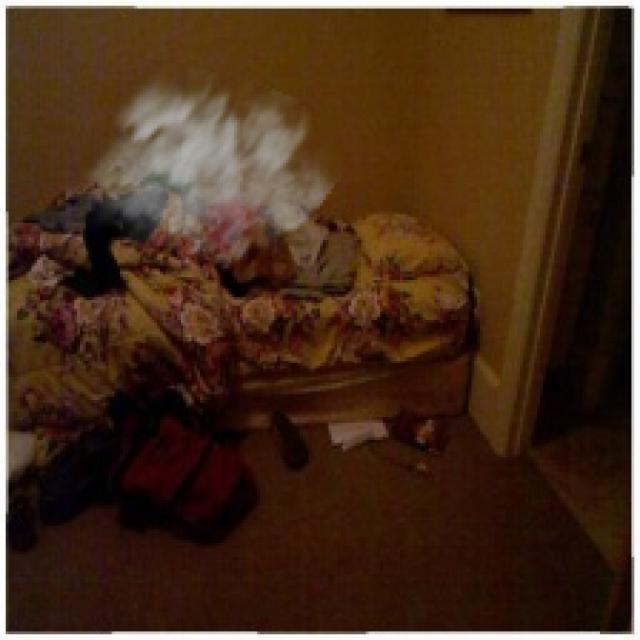Smoke: (74, 45, 349, 272)
